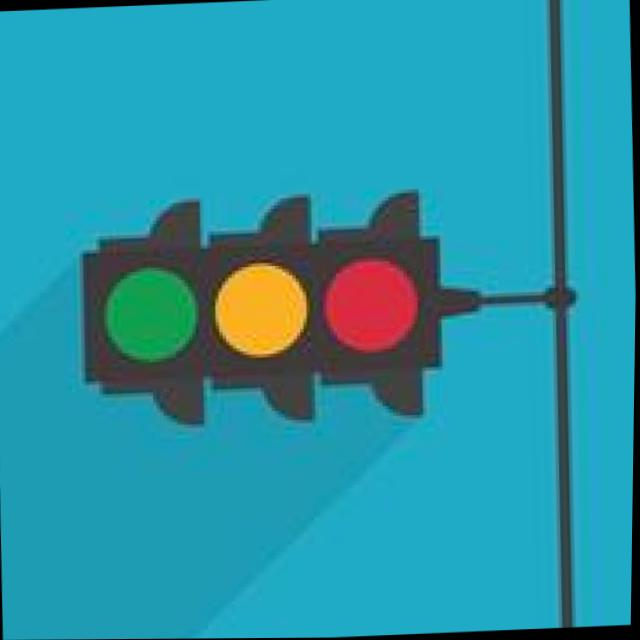green_light: (83, 201, 215, 420)
red_light: (306, 166, 463, 433)
yellow_light: (196, 221, 320, 411)
